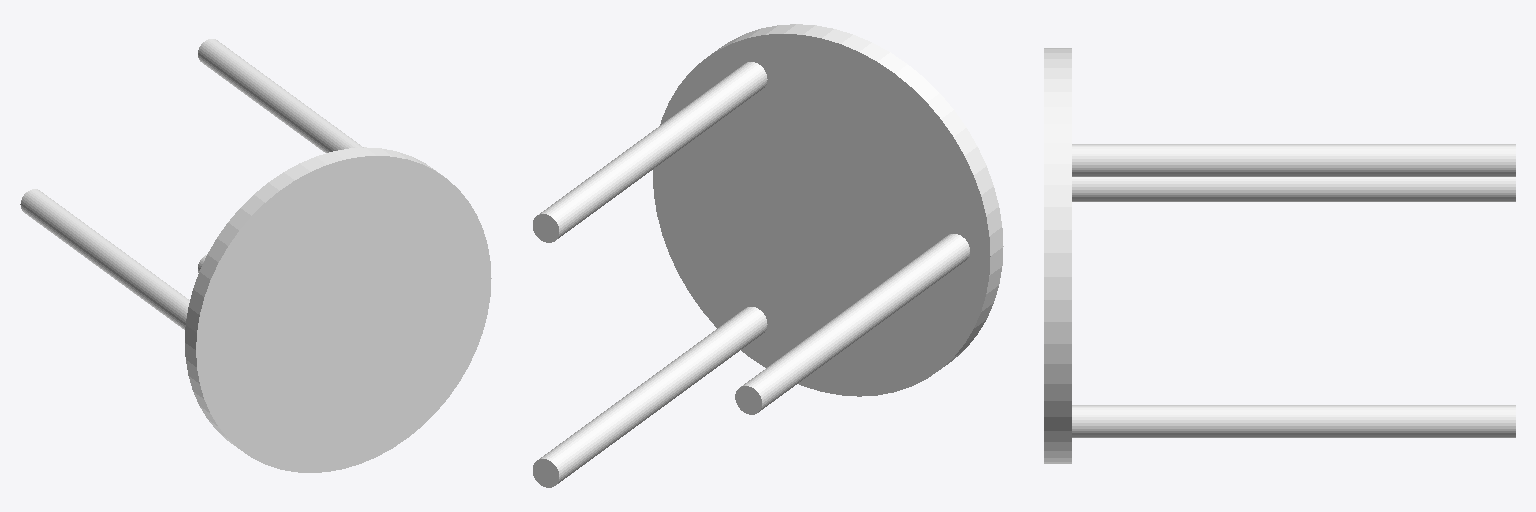
The robot description file, URDF, robot "circletable":
<?xml version="0.0" ?>
<robot name="circletable">
  <link name="baseLink">
    <contact>
      <lateral_friction value="1.0"/>
    </contact>
    <inertial>
      <origin rpy="0 0 0" xyz="0 0 0"/>
       <mass value=".0"/>
       <inertia ixx="1" ixy="0" ixz="0" iyy="1" iyz="0" izz="1"/>
    </inertial>
    <visual>
      <origin rpy="0 0 0" xyz="0 0 0"/>
      <geometry>
				<mesh filename="circletable.STL" scale="0.006 0.008 0.006"/>
      </geometry>
       <material name="white">
        <color rgba="1 1 1 1"/>
      </material>
    </visual>
  </link>
</robot>

--- Render facts (derived) ---
The picture shows the robot from 3 angles, left to right: view 1: azimuth 30°, elevation 25°; view 2: azimuth 150°, elevation 25°; view 3: azimuth 270°, elevation 25°; orthographic projection.
Model circletable with 1 links and 0 joints (none), rooted at baseLink, posed every joint at zero.
Links seen in each view (by area): view 1: baseLink; view 2: baseLink; view 3: baseLink.
Link boxes in pixels (bbox=[...]): baseLink: bbox=[20, 39, 491, 472]; baseLink: bbox=[533, 24, 1003, 487]; baseLink: bbox=[1044, 48, 1515, 463].
Size in the robot's own frame: 0.6 by 0.68 by 0.6 metres.
Meshes: 1 distinct files referenced, 1 mesh visuals loaded (1 binary STL).